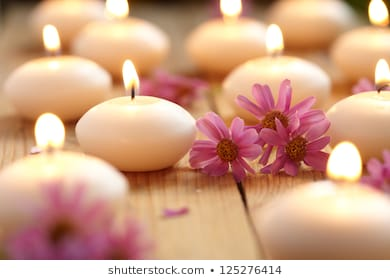Fire: (325, 140, 363, 181), (31, 111, 67, 150), (118, 58, 144, 95), (263, 22, 288, 58), (365, 1, 390, 28), (103, 1, 132, 20), (372, 58, 390, 88), (216, 1, 245, 19), (42, 24, 59, 54)
